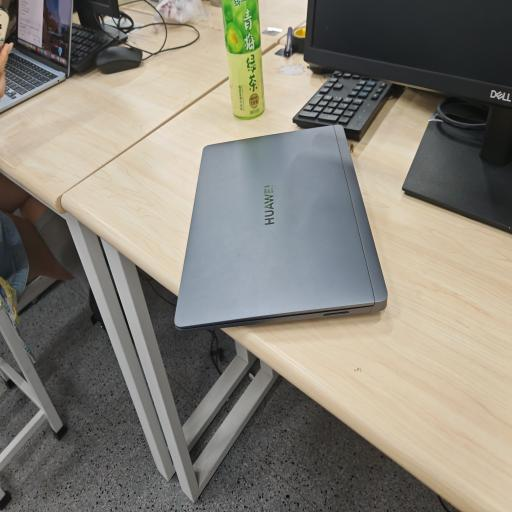laptop: (175, 125, 387, 329), (0, 0, 72, 112)
mouse: (96, 46, 142, 74)
